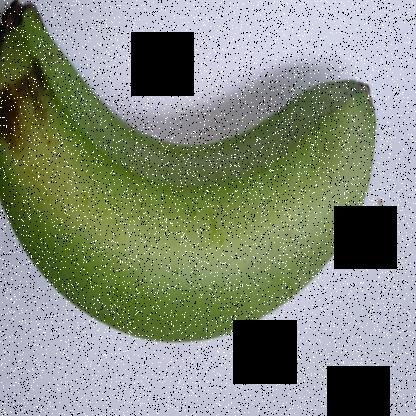freshunripe: (1, 0, 385, 354)
